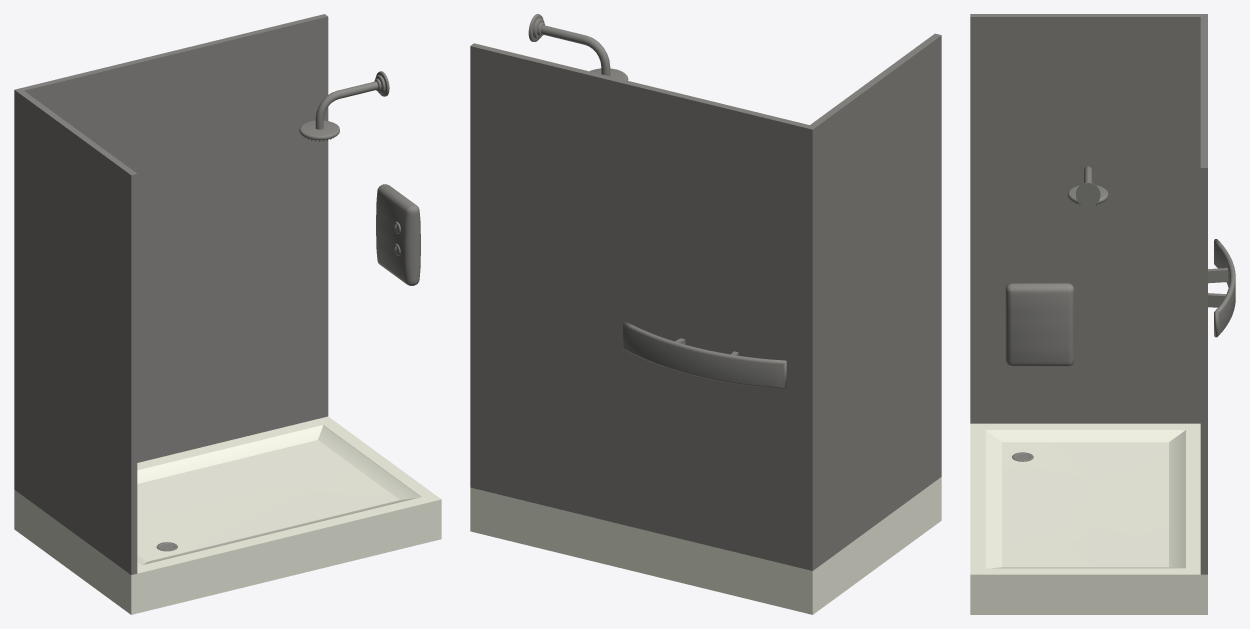
The model's file is ShowerV2.FBX.
3 views of the same model, side by side, from view 1: azimuth 30°, elevation 25°; view 2: azimuth 150°, elevation 25°; view 3: azimuth 270°, elevation 25° (orthographic). The views are drawn at different scales.
Parts seen in each view (by area): view 1: Object001, Box001, ChamferBox001, Cylinder001; view 2: Object001, Box001, Box002, Cylinder001; view 3: Object001, Box001, ChamferBox001, Box002, Cylinder001.
Part boxes in pixels (<box>): Object001: <box>14,14,328,574</box>; Box001: <box>14,416,441,614</box>; ChamferBox001: <box>376,184,420,285</box>; Cylinder001: <box>299,71,389,140</box>; Object001: <box>470,33,941,570</box>; Box001: <box>470,477,941,614</box>; Box002: <box>623,321,786,388</box>; Cylinder001: <box>528,14,628,80</box>; Object001: <box>970,14,1207,574</box>; Box001: <box>970,423,1207,614</box>; ChamferBox001: <box>1005,283,1074,366</box>; Box002: <box>1208,239,1235,337</box>; Cylinder001: <box>1067,166,1108,206</box>.
Bounding box in the file's own units: 349 × 473 × 255.
Materials: 4 (4 with a texture image).
